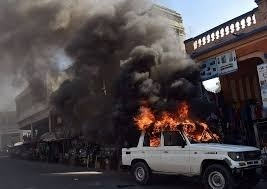fire: (131, 99, 223, 143)
